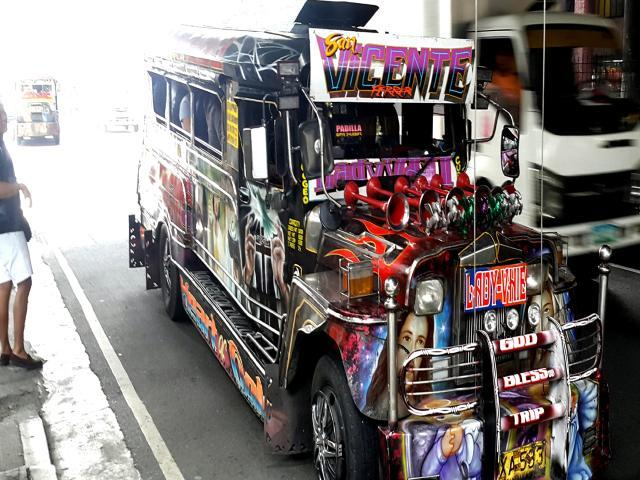jeepney: (137, 5, 615, 480)
